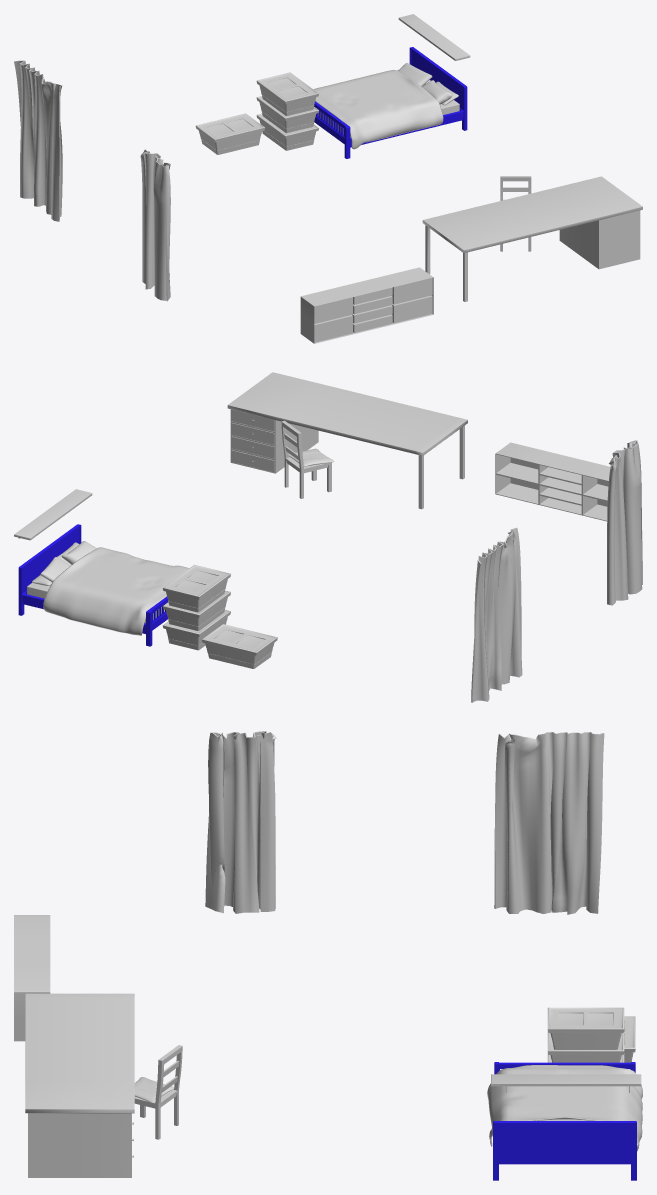
Rendered from other_items.FBX.
3 renders of one model, top to bottom at view 1: azimuth 30°, elevation 25°; view 2: azimuth 150°, elevation 25°; view 3: azimuth 270°, elevation 25°, orthographic. The views are drawn at different scales.
Parts seen in each view (by area): view 1: Desk, Console shelf, Duvet, Right curtain, Left Curtain, Bedframe, Box004, Box003, Box001, Shelf, Box002, Chair; view 2: Desk, Duvet, Right curtain, Console shelf, Left Curtain, Bedframe, Box004, Box003, Chair, Shelf, Box002, Box001 (+4 smaller); view 3: Desk, Right curtain, Left Curtain, Bedframe, Duvet, Console shelf, Box003, Shelf, Chair, Box002.
Part boxes in pixels (left/top/right/bottom): Desk: left=422, top=176, right=642, bottom=301; Console shelf: left=300, top=267, right=433, bottom=343; Duvet: left=313, top=69, right=443, bottom=149; Right curtain: left=14, top=60, right=62, bottom=221; Left Curtain: left=140, top=149, right=170, bottom=301; Bedframe: left=314, top=47, right=467, bottom=158; Box004: left=195, top=113, right=264, bottom=154; Box003: left=256, top=72, right=318, bottom=115; Box001: left=256, top=113, right=318, bottom=150; Shelf: left=398, top=14, right=470, bottom=60; Box002: left=256, top=96, right=318, bottom=133; Chair: left=500, top=176, right=531, bottom=251; Desk: left=227, top=372, right=467, bottom=509; Duvet: left=43, top=547, right=189, bottom=635; Right curtain: left=471, top=527, right=522, bottom=702; Console shelf: left=495, top=442, right=610, bottom=521; Left Curtain: left=607, top=440, right=642, bottom=605; Bedframe: left=18, top=524, right=167, bottom=646; Box004: left=202, top=624, right=277, bottom=668; Box003: left=162, top=565, right=230, bottom=612; Chair: left=281, top=420, right=331, bottom=498; Shelf: left=14, top=489, right=92, bottom=540; Box002: left=162, top=590, right=230, bottom=630; Box001: left=162, top=610, right=230, bottom=650; Desk: left=25, top=993, right=134, bottom=1177; Right curtain: left=494, top=732, right=604, bottom=914; Left Curtain: left=205, top=731, right=276, bottom=913; Bedframe: left=493, top=1062, right=636, bottom=1180; Duvet: left=487, top=1065, right=642, bottom=1151; Console shelf: left=14, top=915, right=50, bottom=1041; Box003: left=547, top=1007, right=624, bottom=1049; Shelf: left=491, top=1074, right=641, bottom=1092; Chair: left=134, top=1045, right=182, bottom=1139; Box002: left=547, top=1030, right=624, bottom=1062.
Bounding box in the file's own units: 6960 × 2266 × 6910.
